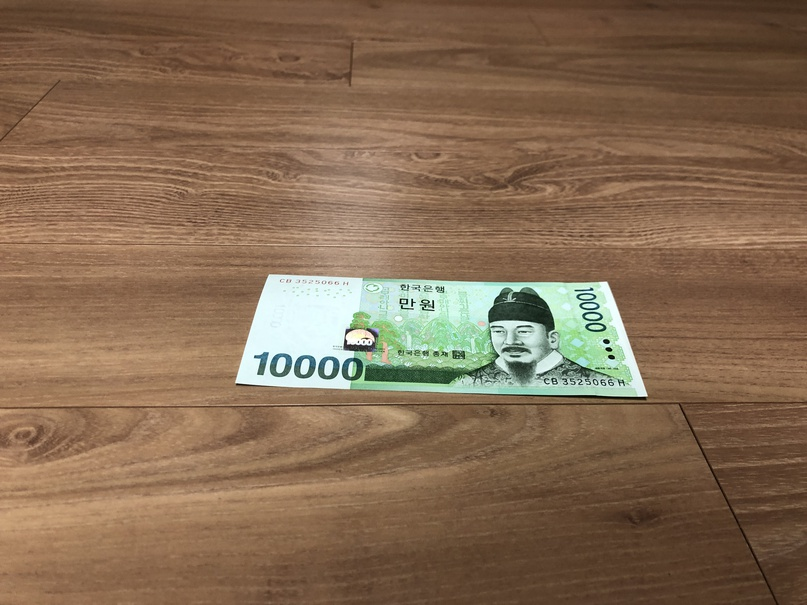10000won: (234, 274, 648, 398)
